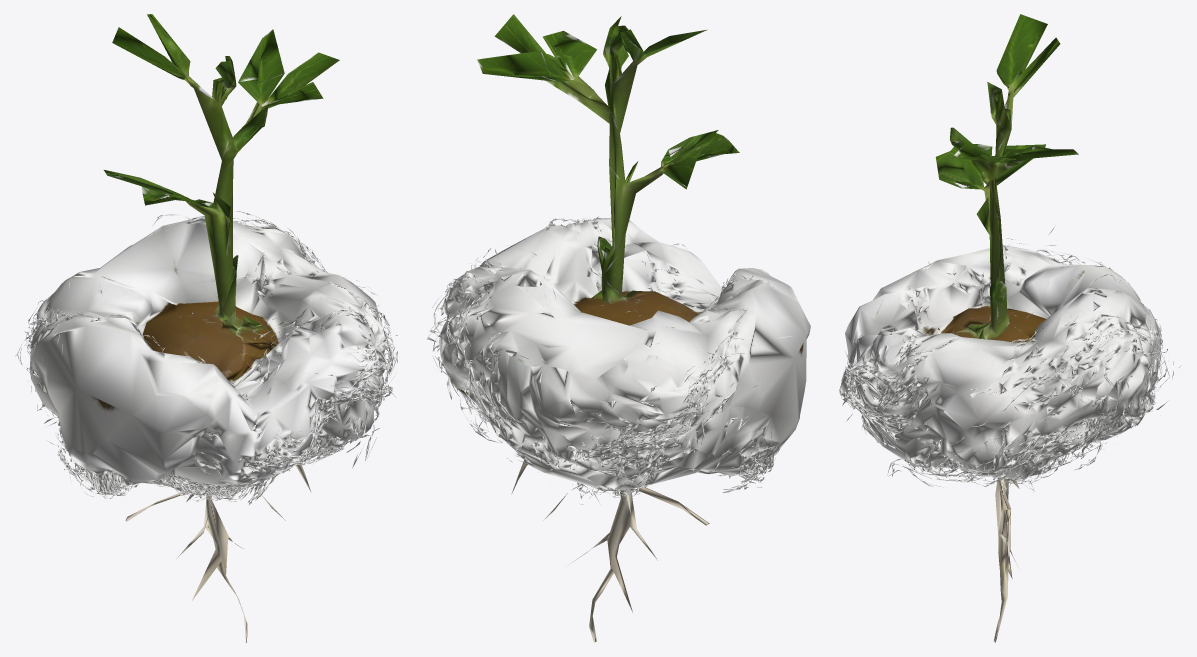
Rendered from lenteja_15ml_opt.glb.
3 renders of one model, left to right at view 1: azimuth 30°, elevation 25°; view 2: azimuth 150°, elevation 25°; view 3: azimuth 270°, elevation 25°, orthographic. The views are drawn at different scales.
Bounding box in the file's own units: 1.02 × 1.83 × 0.9878.
Materials: 1 (1 with a texture image).
